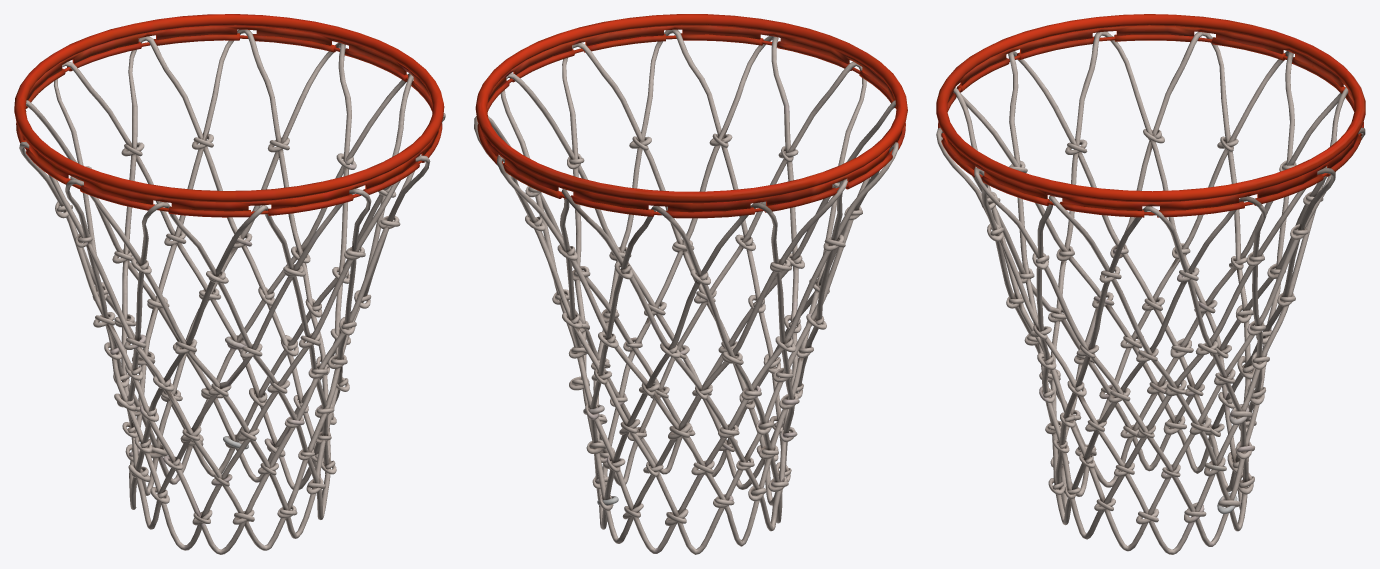
Rendered from net.glb.
The picture shows the model from 3 angles, left to right: view 1: azimuth 30°, elevation 25°; view 2: azimuth 150°, elevation 25°; view 3: azimuth 270°, elevation 25°; orthographic projection.
Parts seen in each view (by area): view 1: NetMeshNotSolid; view 2: NetMeshNotSolid; view 3: NetMeshNotSolid.
Part boxes in pixels (x1,y1,x2,y2): NetMeshNotSolid: [14, 14, 445, 554]; NetMeshNotSolid: [474, 14, 907, 554]; NetMeshNotSolid: [936, 14, 1365, 554].
Size of what is drawn, in the model's own units: 0.4531 by 0.4827 by 0.4516.
Materials: 1 (1 with a texture image).
